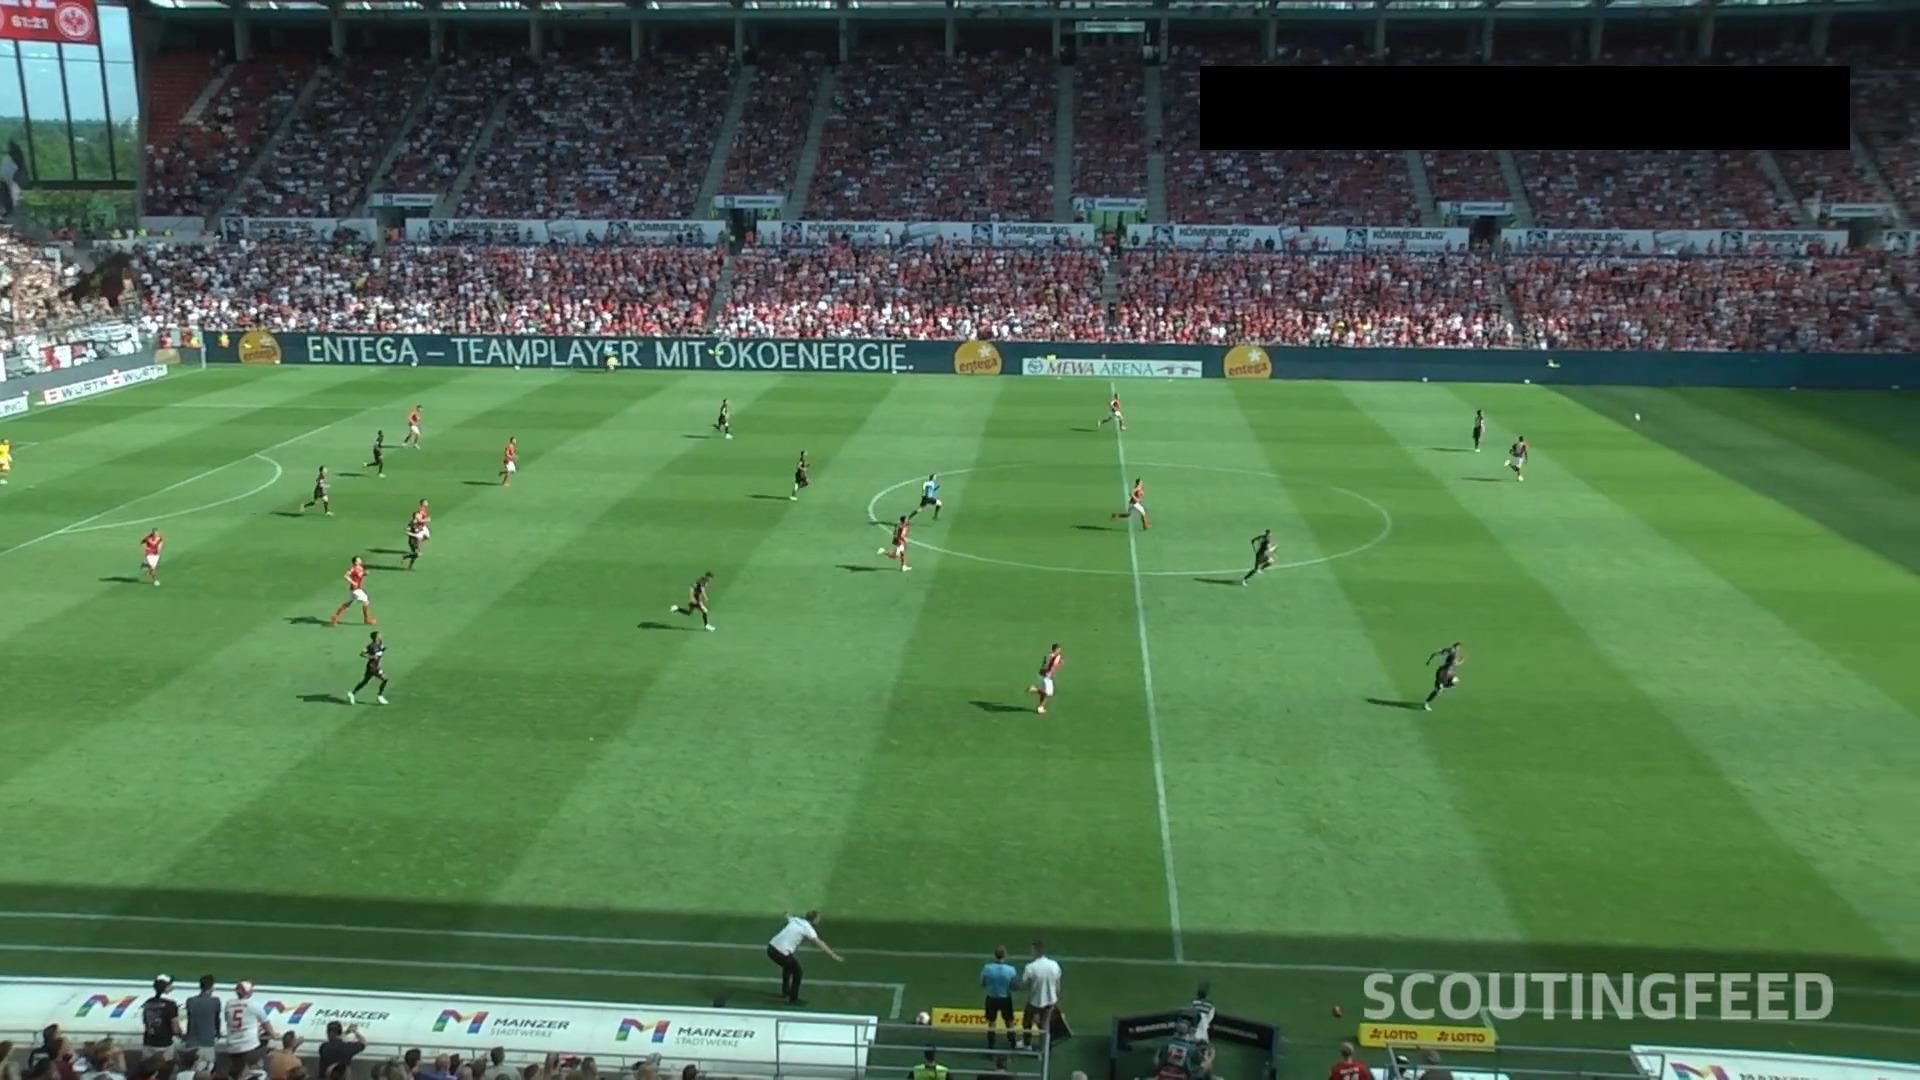ball: (1631, 411, 1642, 423)
